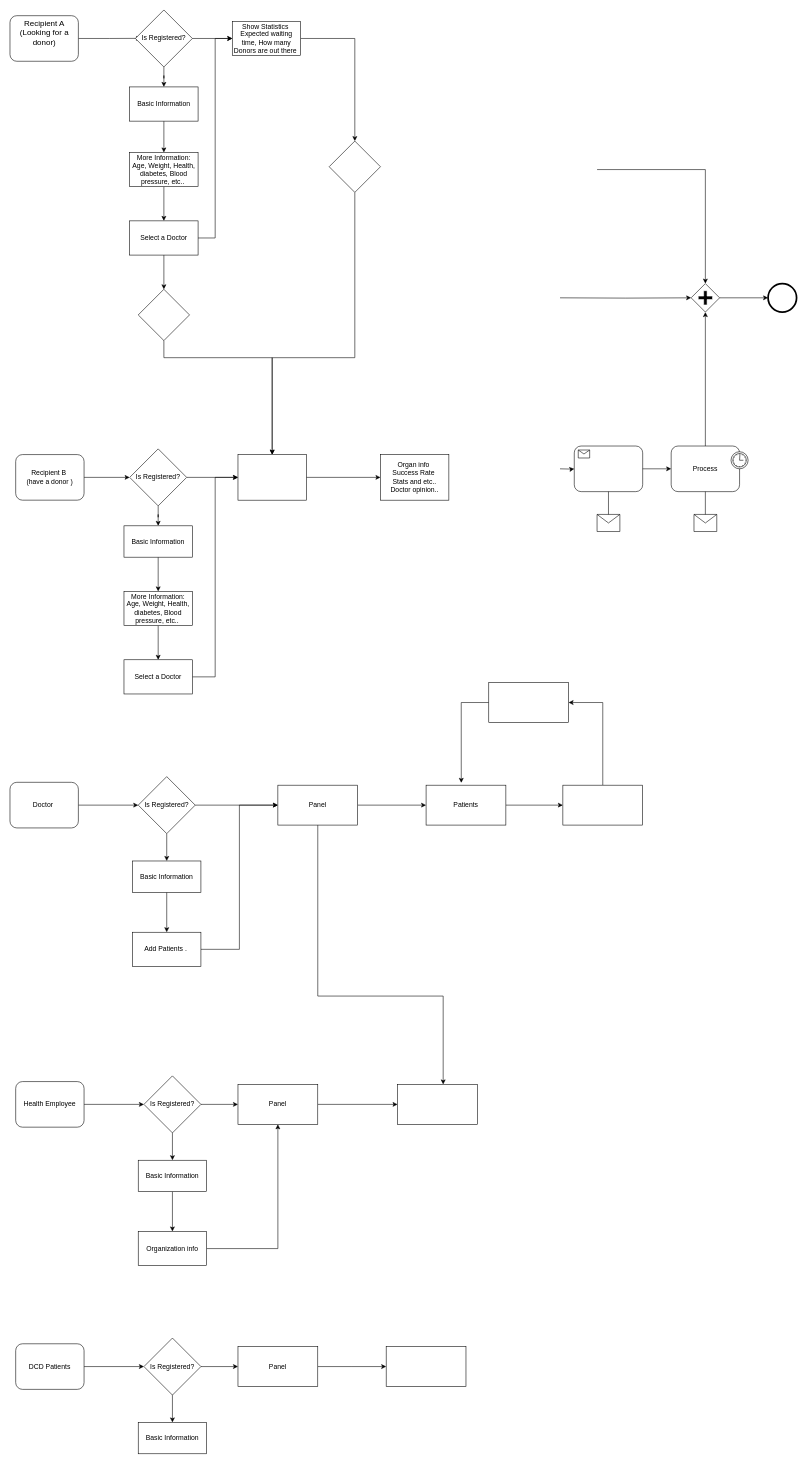
The diagram is 807 pixels wide and 1464 high, and some of its shapes have lost their labels. Each missing label, with the box of its shape:
Donor Information and Lab Results: (237, 454, 306, 500)
Find a Donor: (329, 141, 380, 192)
Have a Donor: (138, 289, 190, 341)
Information Potential recipient , Some stats: (386, 1346, 466, 1387)
Receive: (574, 445, 643, 492)
Success Rate , Over All info Total Donors , Total recipients: (397, 1084, 477, 1124)
Suggest professional Opinion: (488, 682, 569, 722)
View Potential Donors: (562, 785, 643, 825)
